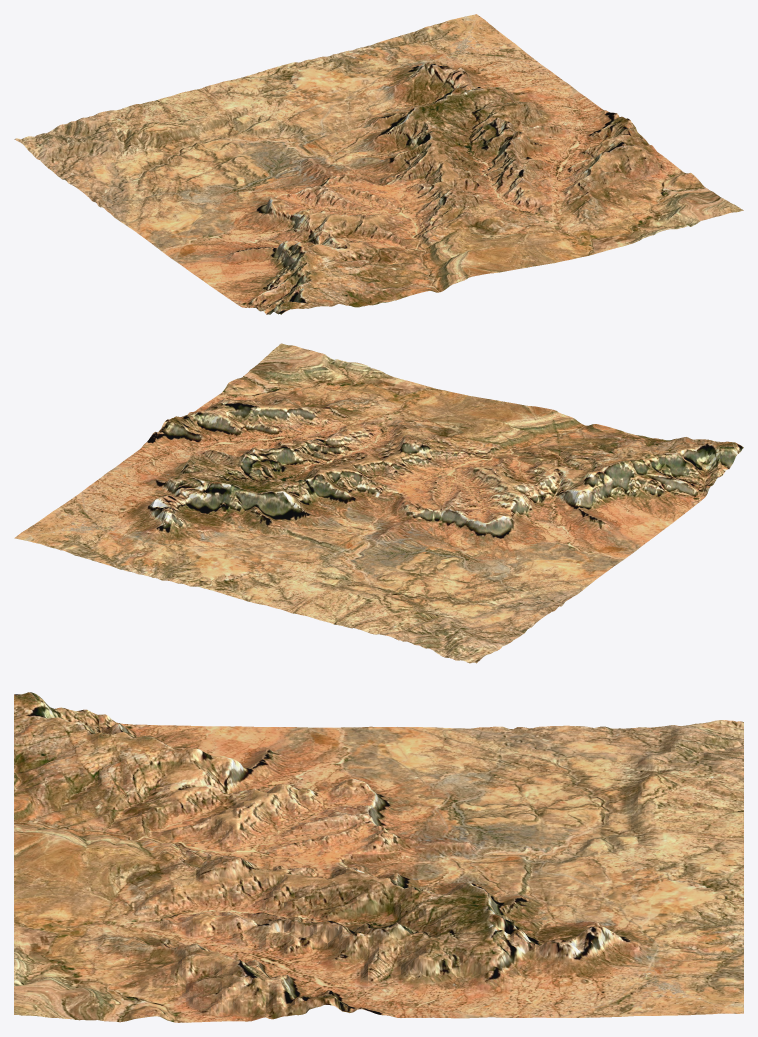
The model's file is terrain.glb.
The picture shows the model from 3 angles, top to bottom: view 1: azimuth 30°, elevation 25°; view 2: azimuth 150°, elevation 25°; view 3: azimuth 270°, elevation 25°; orthographic projection. The views are drawn at different scales.
Size of the model in its own units: 12000 by 860 by 12000.
1 material, 1 textured.
